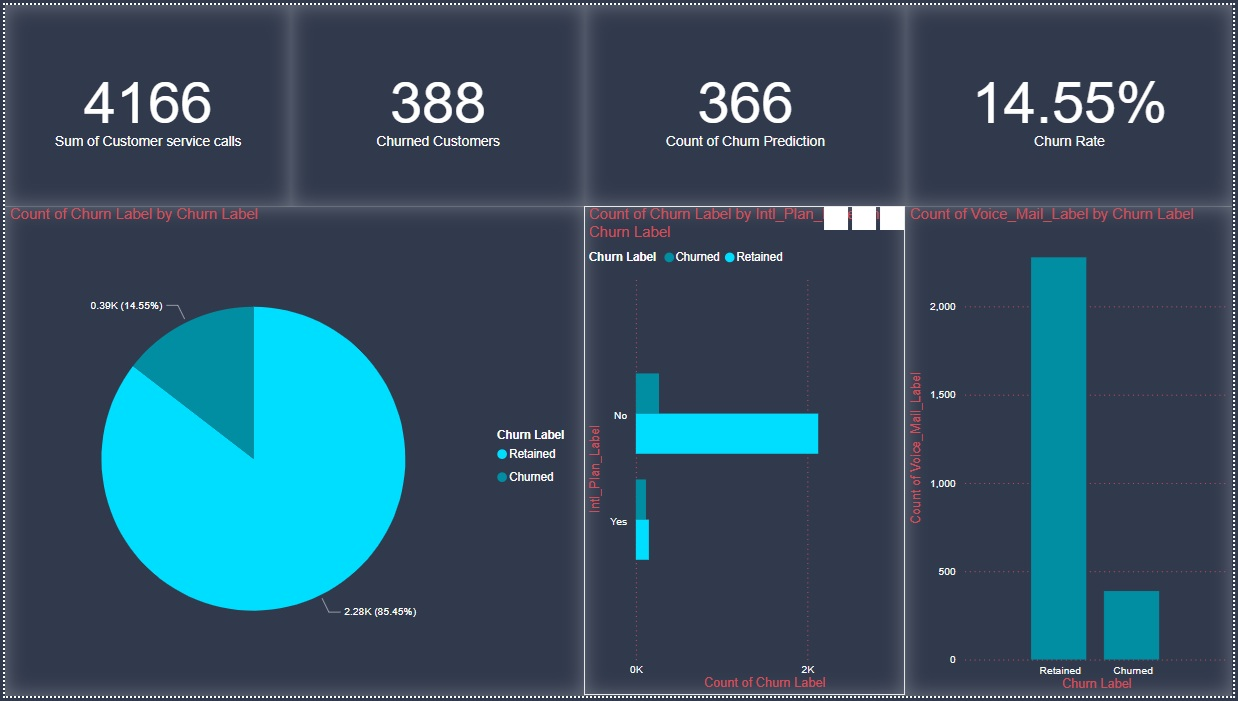

What the dashboard file says about the page in this screenshot:
{"tool":"powerbi","page":{"name":"Churn by Plan Subscription Features","canvas":[1280,720],"ordinal":0},"visuals":[{"type":"card","fields":{"Values":["Sum(churn_with_predictions.Customer service calls)"]},"box":[0,0,298.2,210.4],"z":0},{"type":"card","fields":{"Values":["churn_with_predictions.Churned Customers"]},"box":[298.2,0,306.3,210.4],"z":1000},{"type":"card","fields":{"Values":["CountNonNull(churn_with_predictions.Churn_Prediction)"]},"box":[604.5,0,334,210.4],"z":2000},{"type":"card","fields":{"Values":["churn_with_predictions.Churn Rate"]},"box":[938.5,0,340.3,210.4],"z":3000},{"type":"pieChart","fields":{"Y":["CountNonNull(churn_with_predictions.Churn Label)"],"Category":["churn_with_predictions.Churn Label"]},"box":[0,209.6,604.5,509.6],"z":4000},{"type":"clusteredBarChart","fields":{"Y":["CountNonNull(churn_with_predictions.Churn Label)"],"Category":["churn_with_predictions.Intl_Plan_Label"],"Series":["churn_with_predictions.Churn Label"]},"box":[603.6,209.6,334,509.6],"z":5000},{"type":"clusteredColumnChart","fields":{"Y":["CountNonNull(churn_with_predictions.Voice_Mail_Label)"],"Category":["churn_with_predictions.Churn Label"]},"box":[937.6,209.6,341.2,510.4],"z":6000}]}

Visuals, with their boxes in screenshot pixels (x1, y1, x2, y2), scaled from the page's 1280x720 canvas onto the 1238x701 screenshot:
card - Sum(churn_with_predictions.Customer service calls): [0, 0, 288, 205]
card - churn_with_predictions.Churned Customers: [288, 0, 585, 205]
card - CountNonNull(churn_with_predictions.Churn_Prediction): [585, 0, 908, 205]
card - churn_with_predictions.Churn Rate: [908, 0, 1237, 205]
pieChart - CountNonNull(churn_with_predictions.Churn Label) x churn_with_predictions.Churn Label: [0, 204, 585, 700]
clusteredBarChart - CountNonNull(churn_with_predictions.Churn Label) x churn_with_predictions.Intl_Plan_Label: [584, 204, 907, 700]
clusteredColumnChart - CountNonNull(churn_with_predictions.Voice_Mail_Label) x churn_with_predictions.Churn Label: [907, 204, 1237, 700]
